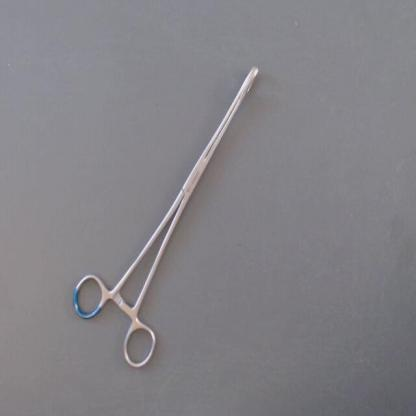Sponge Forceps: (64, 50, 271, 376)
